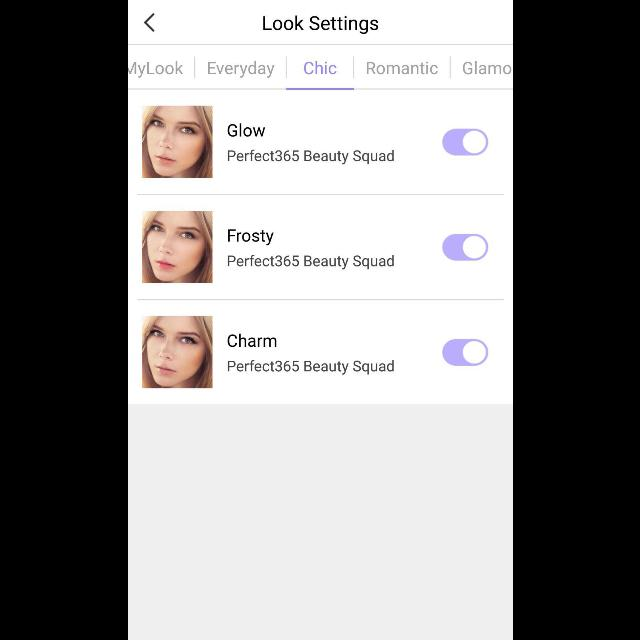icon: (144, 13, 154, 32)
image: (142, 316, 212, 388), (142, 211, 212, 283), (142, 106, 212, 178)
switch: (442, 338, 488, 366), (441, 128, 487, 156), (442, 233, 488, 260)
text: (227, 360, 393, 376), (227, 254, 393, 270), (227, 150, 393, 164), (262, 16, 378, 34), (208, 62, 274, 78), (367, 61, 438, 74), (128, 62, 182, 78), (227, 230, 273, 246), (227, 334, 276, 348), (462, 61, 511, 74), (227, 124, 265, 138), (304, 61, 336, 74)
toolbar: (128, 0, 512, 44)
